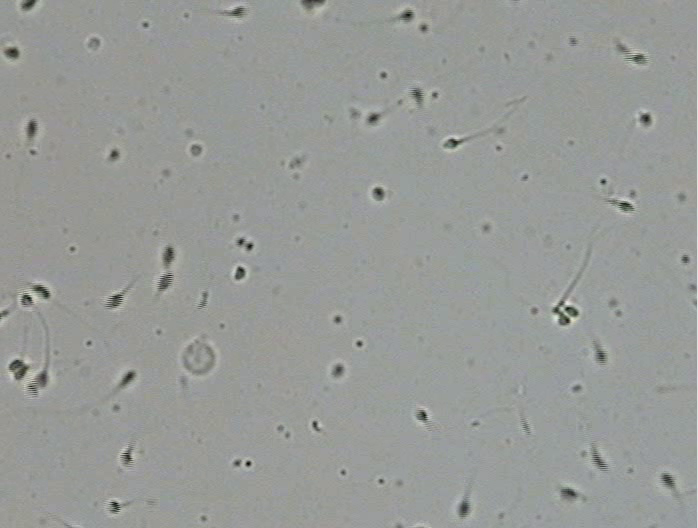Impurity: (183, 341, 217, 374), (87, 37, 101, 50)
S: (8, 359, 29, 380), (591, 449, 609, 472), (157, 271, 174, 291), (30, 283, 50, 299), (105, 293, 125, 309), (120, 370, 137, 387), (659, 472, 676, 489), (592, 348, 608, 366), (626, 52, 648, 65), (120, 450, 135, 469), (458, 498, 471, 519), (34, 370, 49, 388), (24, 381, 40, 397), (25, 119, 37, 140), (162, 245, 174, 266), (227, 6, 246, 19), (559, 488, 578, 501), (300, 1, 326, 10), (617, 200, 635, 213), (20, 292, 34, 308), (409, 87, 423, 103), (331, 363, 345, 378), (106, 501, 120, 515), (400, 10, 415, 23), (234, 265, 246, 281), (20, 1, 37, 12), (3, 47, 20, 58), (372, 187, 384, 202), (366, 113, 381, 125), (415, 409, 428, 422), (640, 112, 652, 126), (190, 144, 202, 157), (558, 312, 570, 325), (443, 138, 457, 149), (565, 306, 579, 317), (109, 150, 120, 160)
